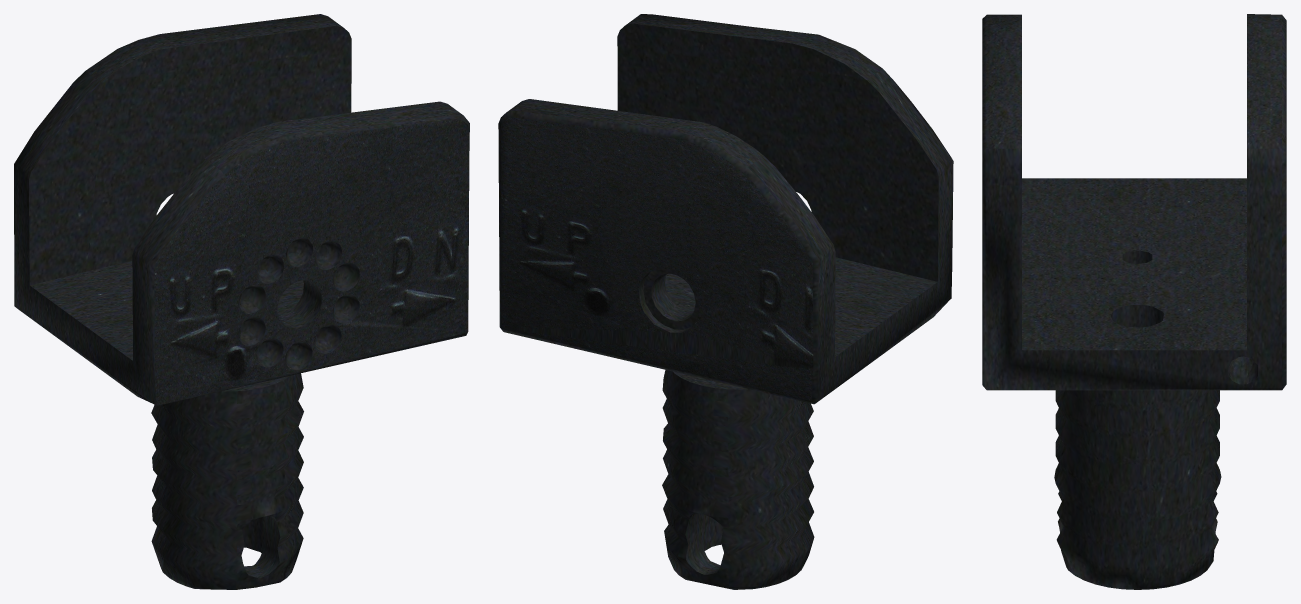
Rendered from Rear_Sight_Base.dae.
3 renders of one model, left to right at view 1: azimuth 30°, elevation 25°; view 2: azimuth 150°, elevation 25°; view 3: azimuth 270°, elevation 25°, orthographic. The views are drawn at different scales.
Visible parts, largest first — view 1: Rear_Sight_Base; view 2: Rear_Sight_Base; view 3: Rear_Sight_Base.
Boxes of the visible parts, x1,y1,x2,y2 form: Rear_Sight_Base: [14, 14, 469, 589]; Rear_Sight_Base: [498, 14, 953, 589]; Rear_Sight_Base: [982, 14, 1286, 589].
Size of the model in its own units: 0.0278 by 0.0208 by 0.0397.
Materials: 1 (1 with a texture image).
